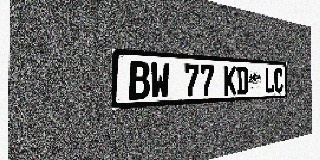7: (183, 64, 199, 97), (200, 64, 214, 97)
B: (128, 61, 150, 100)
C: (274, 68, 283, 93)
D: (236, 66, 248, 95)
K: (224, 66, 236, 95)
L: (265, 68, 274, 93)
W: (150, 62, 170, 99)
